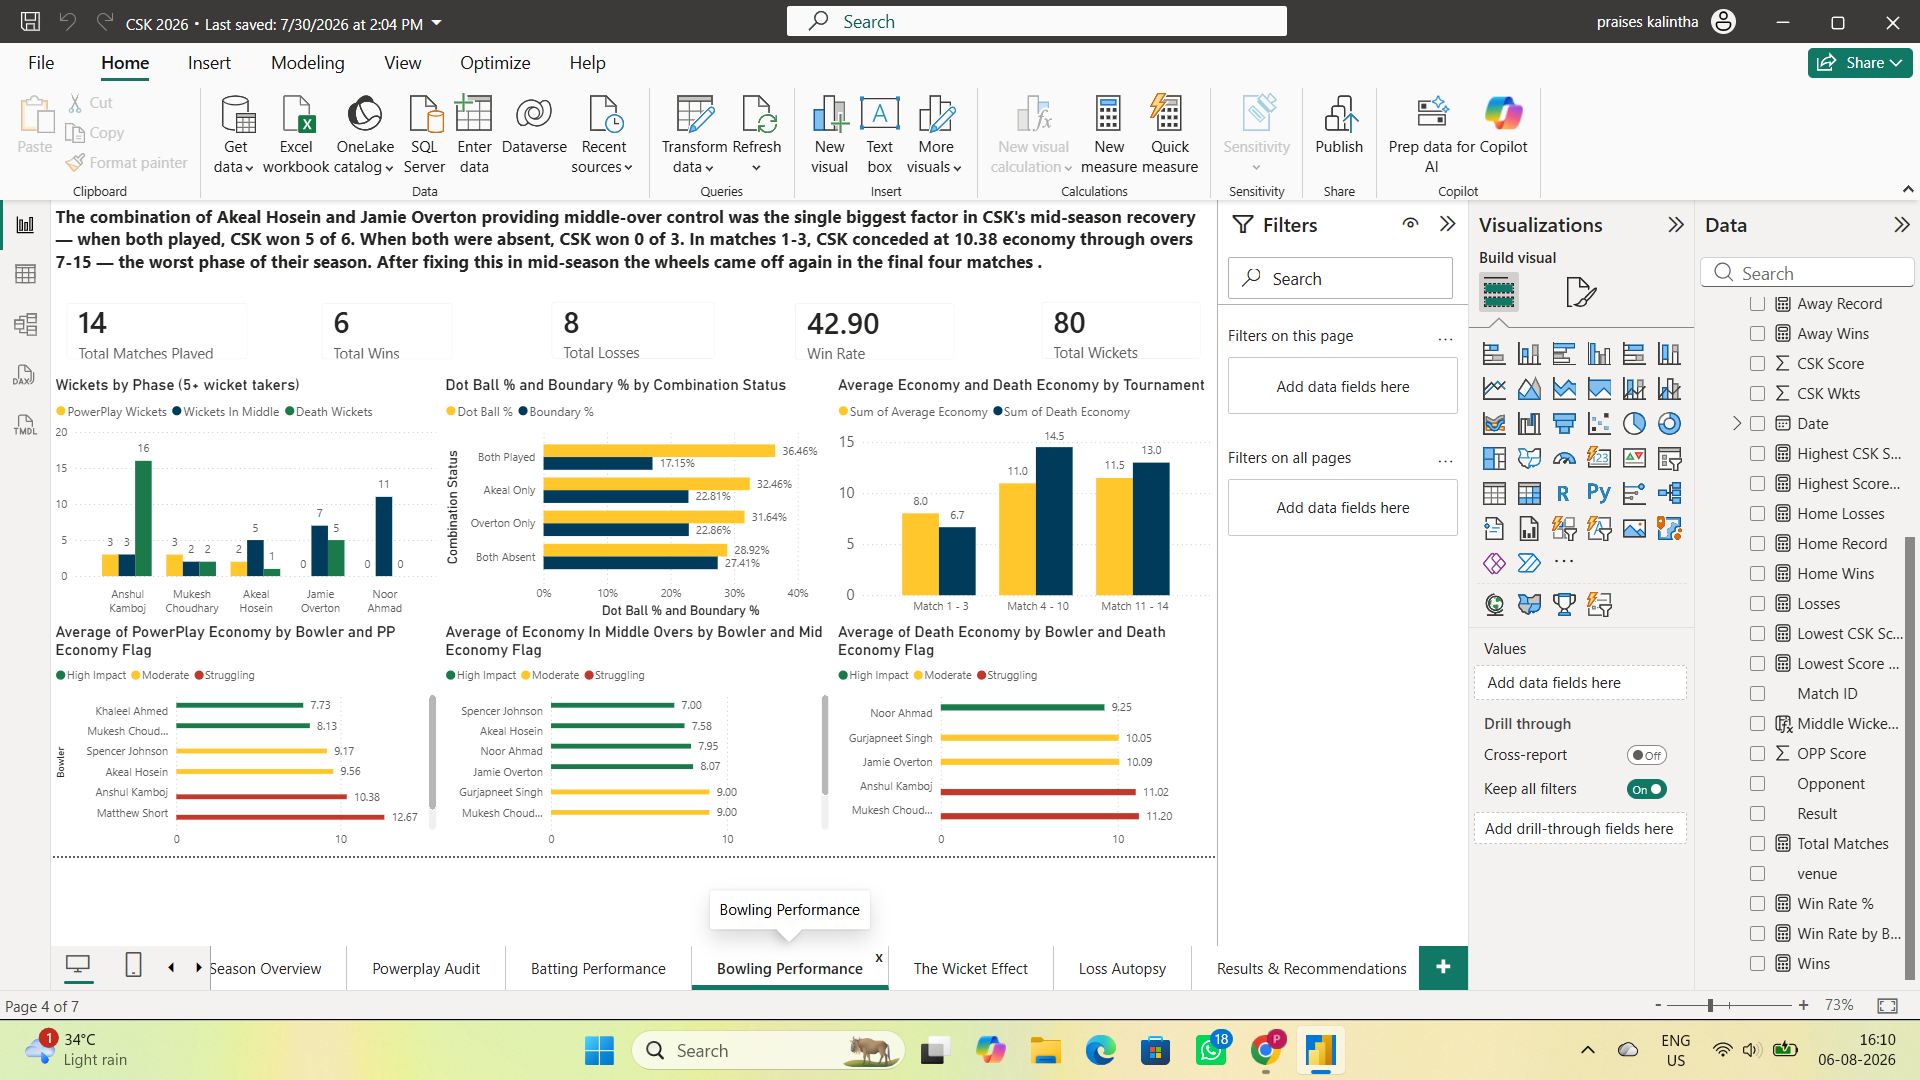

The dashboard page shown, as its layout file describes it:
{"tool":"powerbi","page":{"name":"Bowling Performance","canvas":[1280,720],"ordinal":3},"visuals":[{"type":"clusteredBarChart","fields":{"Category":["Bowling Performance.bowler"],"Series":["Bowling Performance.PP Economy Flag"],"Y":["Avg(Bowling Performance.pp_economy)"]},"box":[0,481.6,396.6,238.8],"z":0},{"type":"clusteredBarChart","fields":{"Category":["Bowling Performance.bowler1"],"Series":["Bowling Performance.Mid Economy Flag"],"Y":["Avg(Bowling Performance.mid_economy)"]},"box":[428.1,481.6,406.2,238.8],"z":1000},{"type":"clusteredBarChart","fields":{"Category":["Bowling Performance.bowler1"],"Series":["Bowling Performance.Death Economy Flag"],"Y":["Avg(Bowling Performance.Death Economy)"]},"box":[870,481.6,410.3,238.8],"z":2000},{"type":"cardVisual","fields":{"Data":["Max(Bowling Performance.matches_played)"]},"box":[0,96.1,233.3,96.1],"z":3000},{"type":"cardVisual","fields":{"Data":["Max(Bowling Performance.Wins)"]},"box":[293.7,97.4,178.4,96.1],"z":4000},{"type":"cardVisual","fields":{"Data":["Max(Bowling Performance.Losses)"]},"box":[532.4,96.1,214.1,97.4],"z":5000},{"type":"cardVisual","fields":{"Data":["Median(Bowling Performance.Win Rate)"]},"box":[816.5,96.1,209.9,97.4],"z":6000},{"type":"cardVisual","fields":{"Data":["Sum(Bowling Performance.Wickets)"]},"box":[1070.3,94.7,209.9,97.4],"z":7000},{"type":"clusteredColumnChart","title":"Wickets by Phase (5+ wicket takers)","fields":{"Category":["Bowling Performance.Bowler"],"Y":["Sum(Bowling Performance.PowerPlay Wickets)","Sum(Bowling Performance.Wickets In Middle Overs)","Sum(Bowling Performance.Death Wickets)"]},"box":[0,207.2,396.6,256.6],"z":8000},{"type":"textbox","box":[0,0,1280.3,96.1],"z":9000},{"type":"clusteredColumnChart","title":"Average Economy and Death Economy by Tournament","fields":{"Category":["Anshul kamboj Performance.Tournament Phase"],"Y":["Sum(Anshul kamboj Performance.Average Economy)","Sum(Anshul kamboj Performance.Death Economy)"]},"box":[870,207.2,410.3,256.6],"z":10000},{"type":"clusteredBarChart","fields":{"Category":["ipl_2026_deliveries.Combination Status"],"Y":["ipl_2026_deliveries.Dot Ball %","ipl_2026_deliveries.Boundary %"]},"box":[428.1,207.2,406.2,256.6],"z":11000}]}

Visuals, with their boxes on the page's 1280x720 design canvas (x1, y1, x2, y2). These are canvas units, not pixel positions in the 1920x1080 screenshot, which may show the page scaled, cropped or inside an application window:
clusteredBarChart - Bowling Performance.bowler x Bowling Performance.PP Economy Flag: <region>0, 482, 397, 720</region>
clusteredBarChart - Bowling Performance.bowler1 x Bowling Performance.Mid Economy Flag: <region>428, 482, 834, 720</region>
clusteredBarChart - Bowling Performance.bowler1 x Bowling Performance.Death Economy Flag: <region>870, 482, 1280, 720</region>
cardVisual - Max(Bowling Performance.matches_played): <region>0, 96, 233, 192</region>
cardVisual - Max(Bowling Performance.Wins): <region>294, 97, 472, 194</region>
cardVisual - Max(Bowling Performance.Losses): <region>532, 96, 746, 194</region>
cardVisual - Median(Bowling Performance.Win Rate): <region>816, 96, 1026, 194</region>
cardVisual - Sum(Bowling Performance.Wickets): <region>1070, 95, 1280, 192</region>
"Wickets by Phase (5+ wicket takers)" clusteredColumnChart: <region>0, 207, 397, 464</region>
textbox: <region>0, 0, 1280, 96</region>
"Average Economy and Death Economy by Tournament" clusteredColumnChart: <region>870, 207, 1280, 464</region>
clusteredBarChart - ipl_2026_deliveries.Combination Status x ipl_2026_deliveries.Dot Ball %: <region>428, 207, 834, 464</region>
